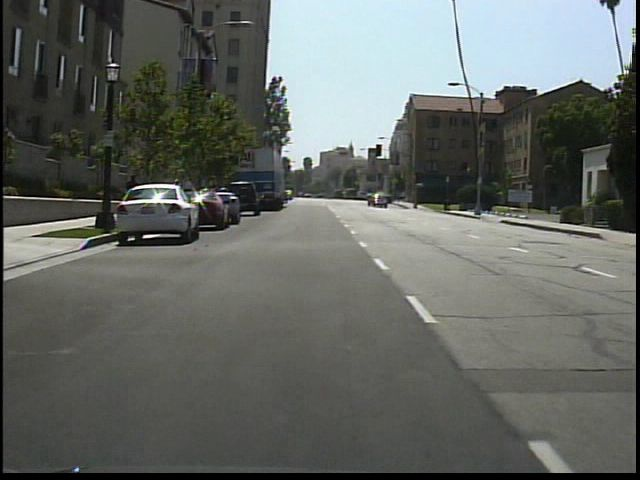person: (124, 167, 144, 218)
